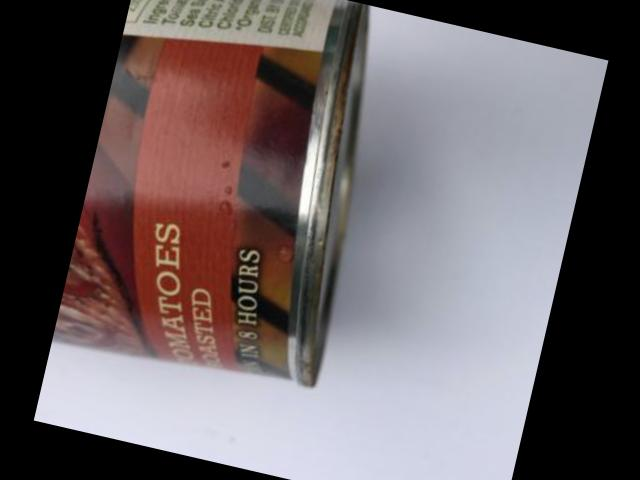metal: (50, 0, 364, 387)
